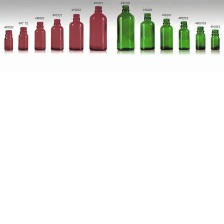bottle: (113, 3, 138, 52), (87, 2, 109, 52), (138, 12, 158, 53), (67, 11, 85, 52), (158, 17, 176, 51), (50, 17, 65, 52), (32, 20, 47, 52), (178, 19, 191, 51), (16, 25, 31, 52), (193, 24, 208, 51), (208, 26, 221, 51), (3, 28, 14, 52)
